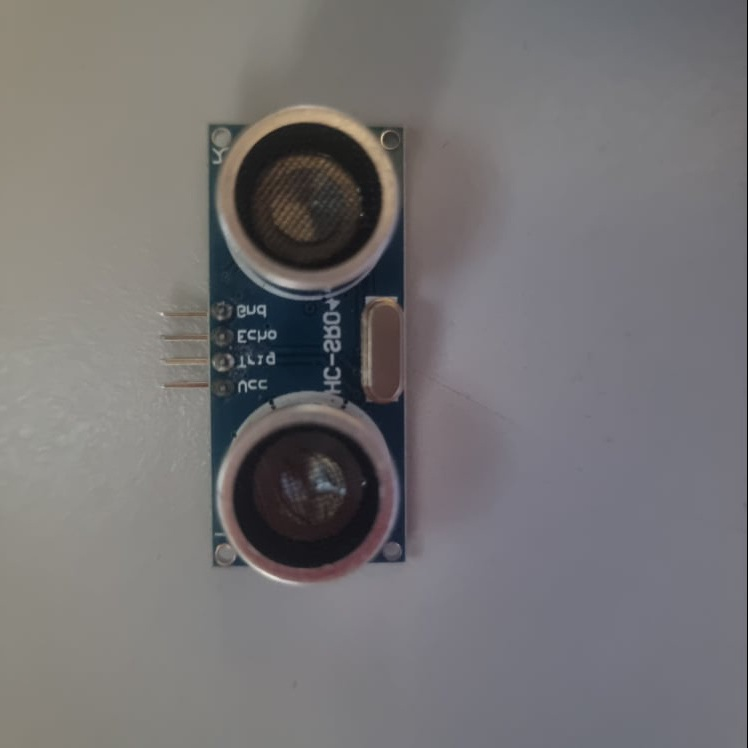SENSOR: (158, 103, 413, 591)
